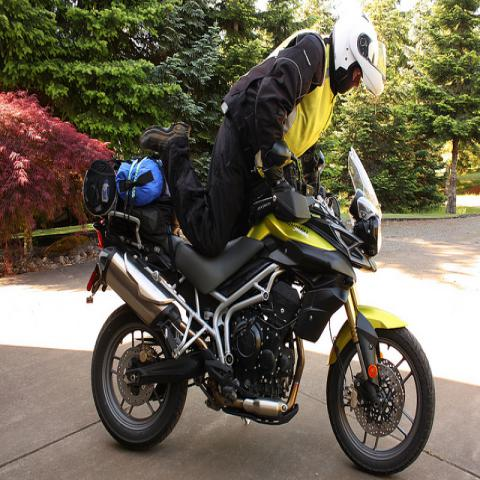motorcycle: (87, 139, 437, 474)
